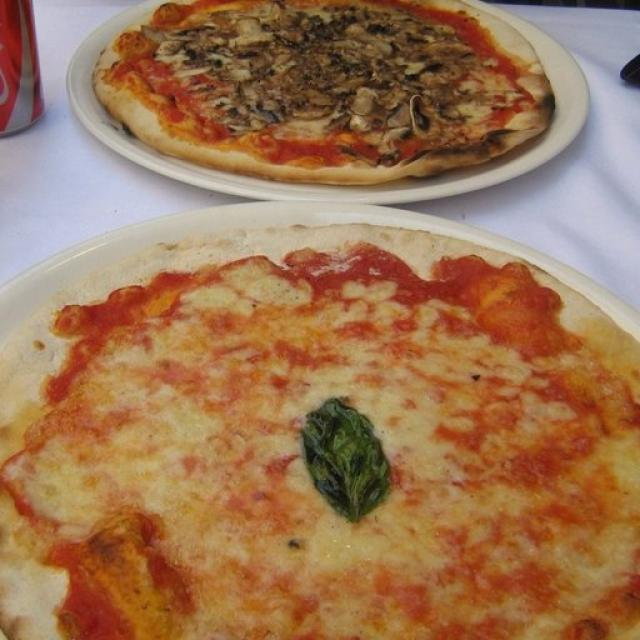Basil: (296, 396, 390, 519)
Mushrooms: (155, 21, 484, 131)
Pizza: (0, 222, 640, 640), (96, 0, 551, 181)
